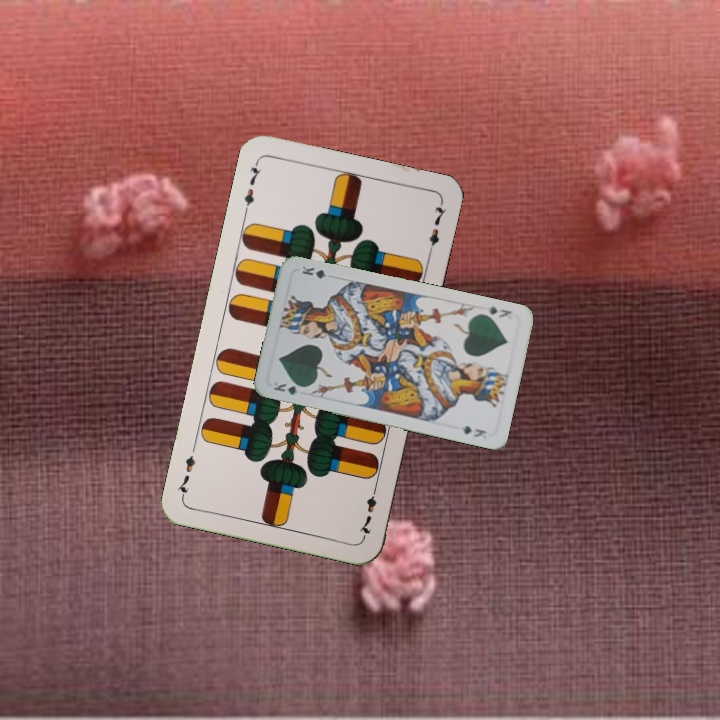E7: (355, 481, 380, 540), (240, 157, 264, 216)
GK: (269, 378, 309, 397), (485, 302, 514, 320)
